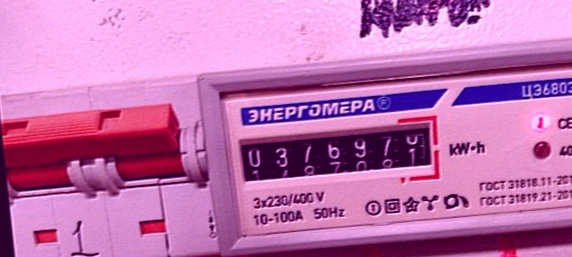0: (246, 145, 262, 169)
1: (405, 146, 419, 167)
3: (273, 145, 290, 169)
6: (324, 136, 342, 160)
7: (298, 140, 315, 164), (379, 133, 395, 158)
9: (351, 135, 368, 159)
screen: (228, 109, 446, 204)
